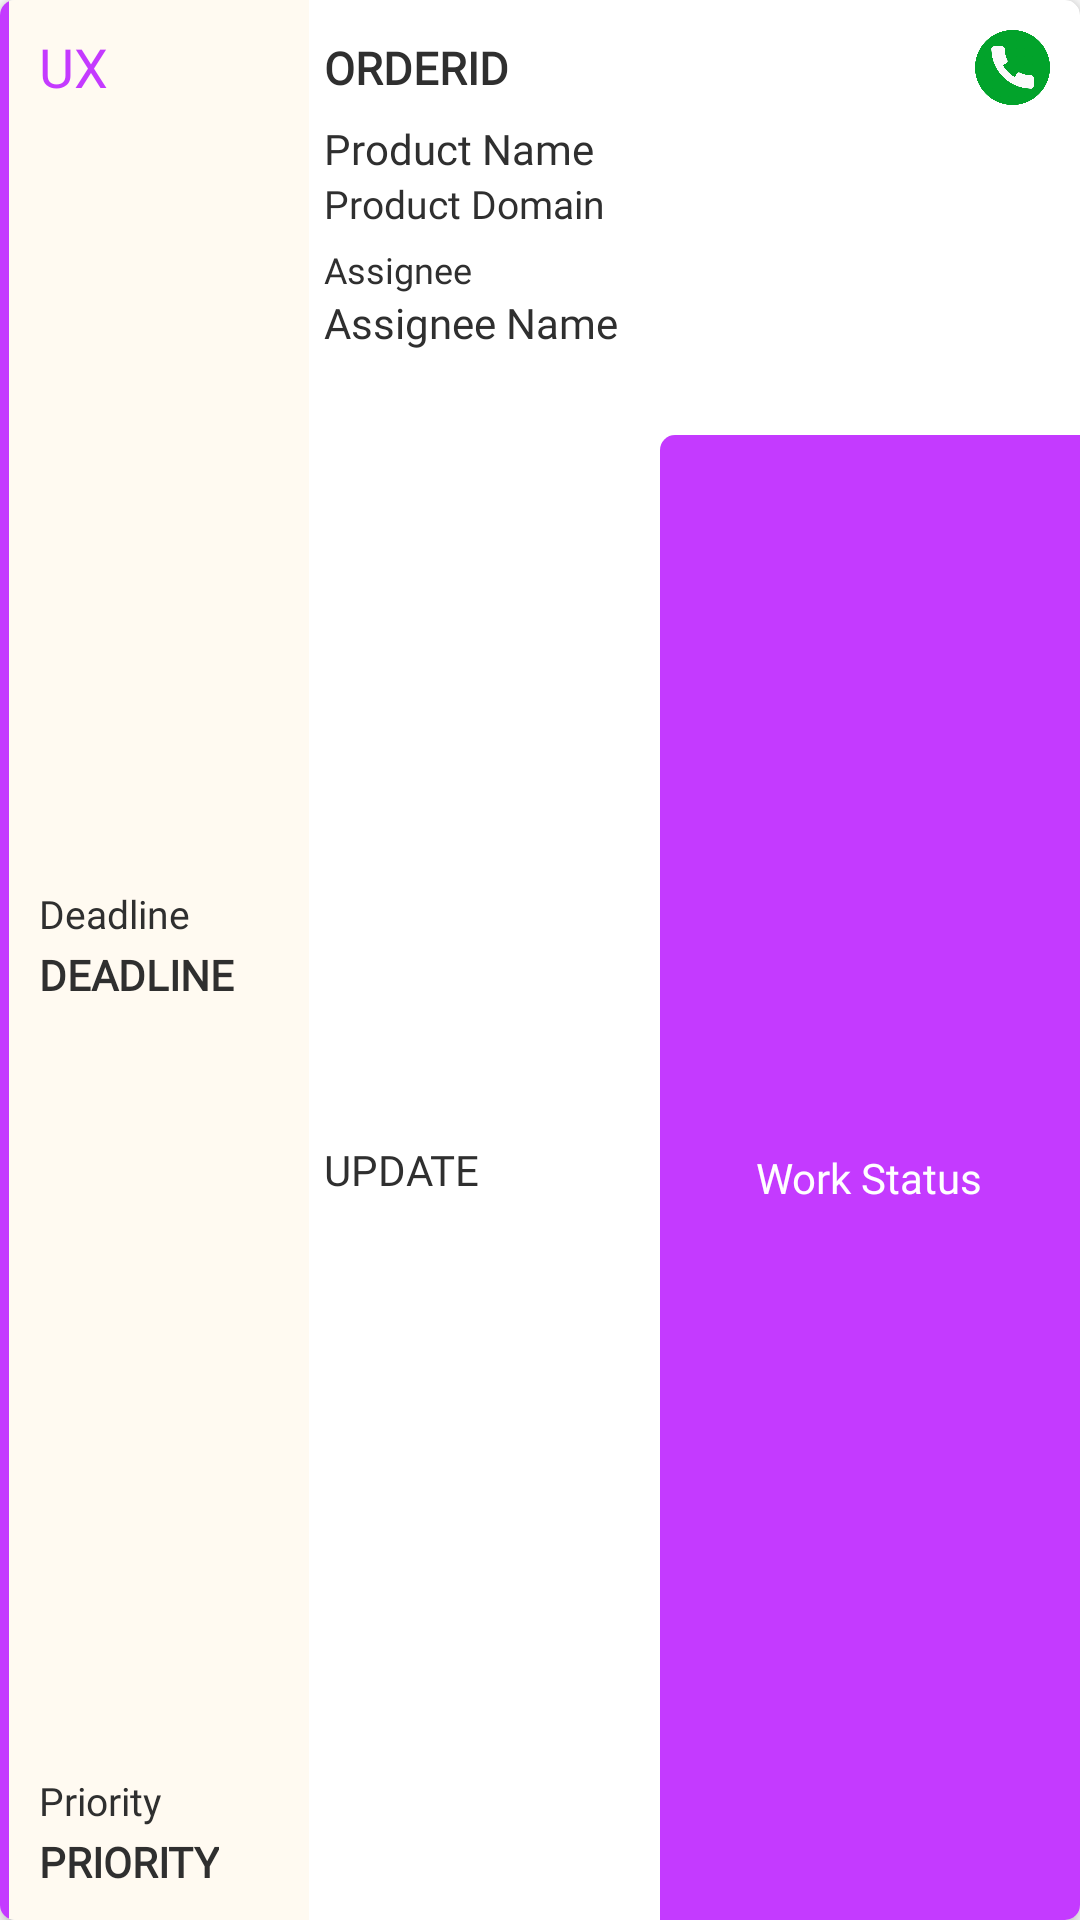

Named icons in this screenshot (1080×1920) and their centers, (x,y):
telephone: (1012,67)
